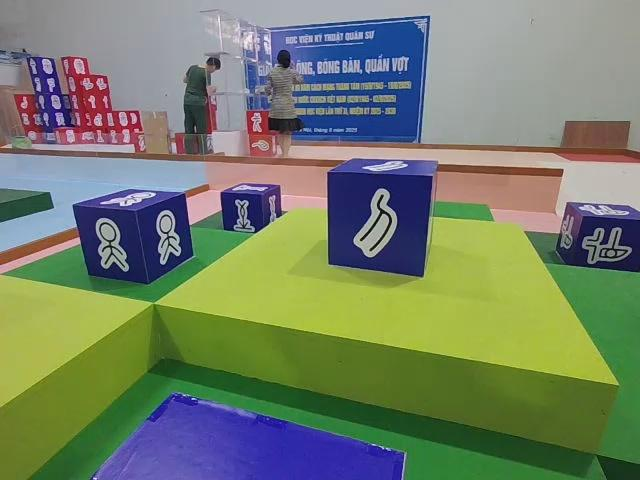R2 Real Blue: (325, 159, 437, 281), (72, 189, 195, 286), (553, 201, 638, 273), (218, 184, 280, 235)
